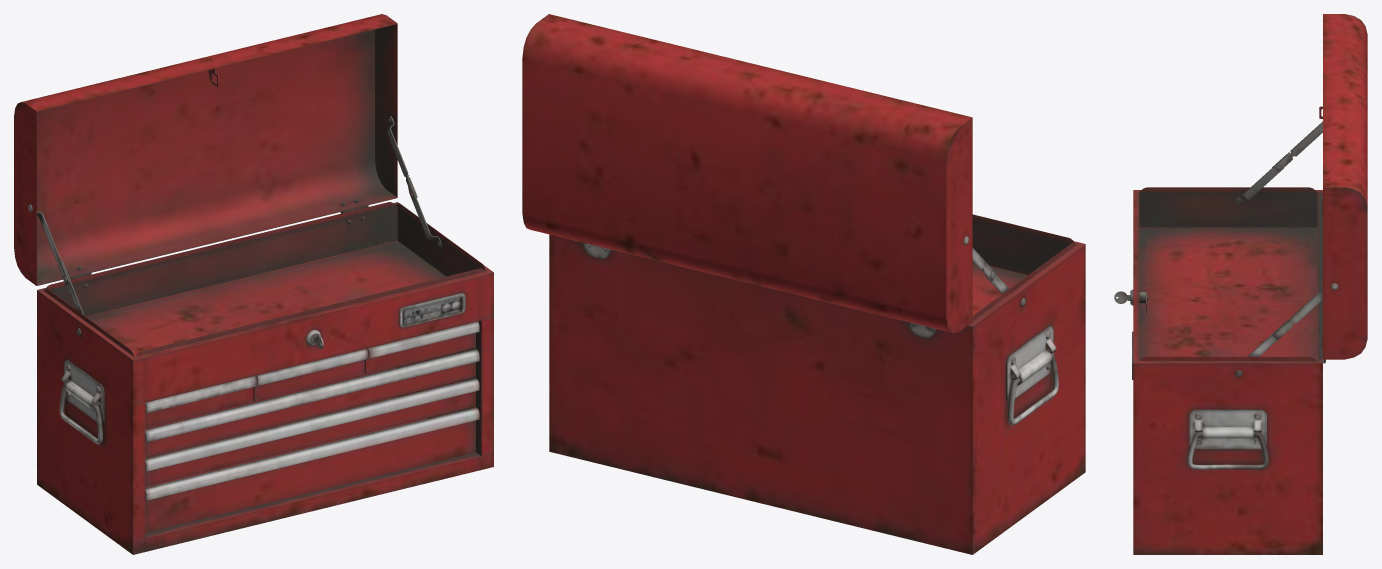
3 views of the same model, side by side, from view 1: azimuth 30°, elevation 25°; view 2: azimuth 150°, elevation 25°; view 3: azimuth 270°, elevation 25° (orthographic). The views are drawn at different scales.
Visible parts, largest first — view 1: metal_tool_chest_chest, metal_tool_chest_lid, metal_tool_chest_hinge_lid, metal_tool_chest_hinge_chest, metal_tool_chest_handle_left; view 2: metal_tool_chest_chest, metal_tool_chest_lid, metal_tool_chest_handle_left; view 3: metal_tool_chest_chest, metal_tool_chest_lid, metal_tool_chest_hinge_lid, metal_tool_chest_hinge_chest, metal_tool_chest_handle_right, metal_tool_chest_lock.
Boxes of the visible parts, left/top/right/bottom form: metal_tool_chest_chest: left=37, top=202, right=493, bottom=554; metal_tool_chest_lid: left=14, top=14, right=397, bottom=285; metal_tool_chest_hinge_lid: left=28, top=116, right=417, bottom=285; metal_tool_chest_hinge_chest: left=59, top=175, right=441, bottom=335; metal_tool_chest_handle_left: left=59, top=383, right=102, bottom=444; metal_tool_chest_chest: left=549, top=214, right=1085, bottom=554; metal_tool_chest_lid: left=522, top=14, right=972, bottom=333; metal_tool_chest_handle_left: left=1008, top=354, right=1058, bottom=425; metal_tool_chest_chest: left=1132, top=187, right=1325, bottom=554; metal_tool_chest_lid: left=1319, top=14, right=1367, bottom=359; metal_tool_chest_hinge_lid: left=1272, top=121, right=1338, bottom=340; metal_tool_chest_hinge_chest: left=1234, top=152, right=1290, bottom=376; metal_tool_chest_handle_right: left=1187, top=432, right=1268, bottom=469; metal_tool_chest_lock: left=1114, top=289, right=1148, bottom=313.
Size of the model in its own units: 0.6854 by 0.6518 by 0.4072.
1 material, 1 textured.
